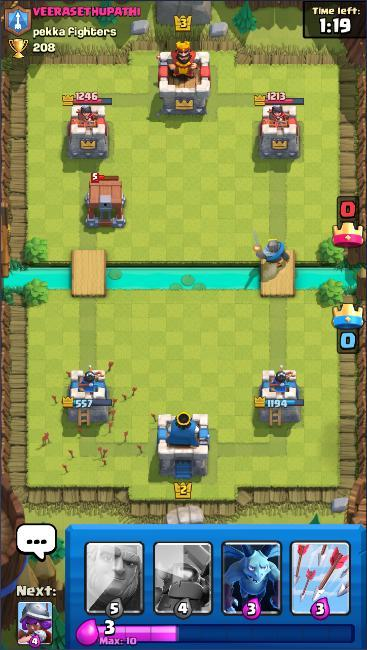ally_knight: (250, 221, 293, 269)
enemy_goblin_cage: (82, 171, 130, 230)
